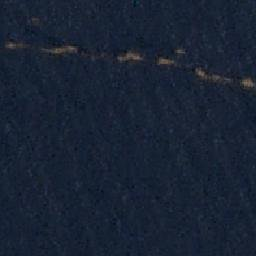debris: (39, 46, 77, 56), (116, 51, 142, 62), (155, 54, 177, 67), (208, 72, 230, 84), (4, 41, 30, 51), (194, 64, 208, 79), (239, 73, 253, 88), (170, 49, 187, 56)
